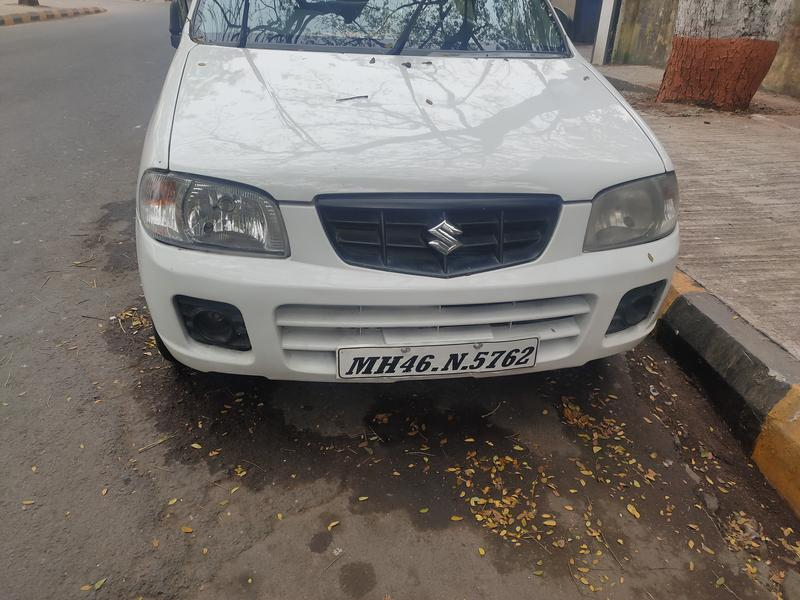license_plate: (333, 340, 559, 387)
